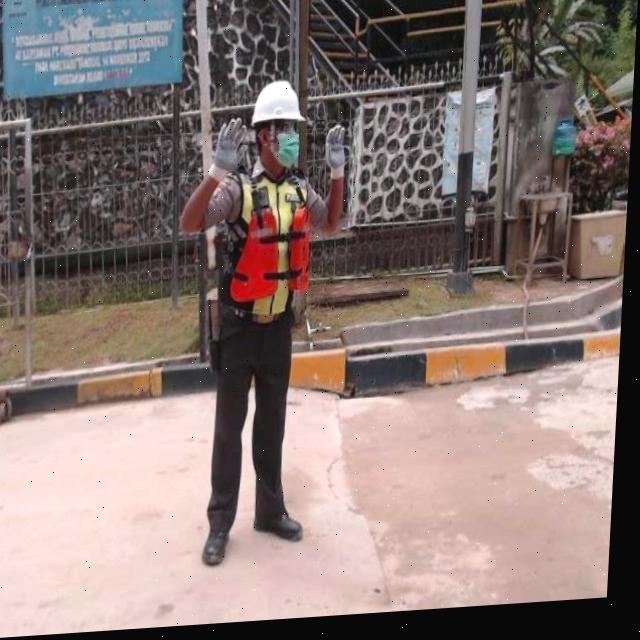Gloves: (209, 119, 253, 185), (325, 128, 349, 185)
Helmet: (251, 81, 310, 131)
Safety-Boot: (258, 515, 310, 548), (207, 531, 235, 568)
Safety-Vest: (225, 169, 317, 327)
